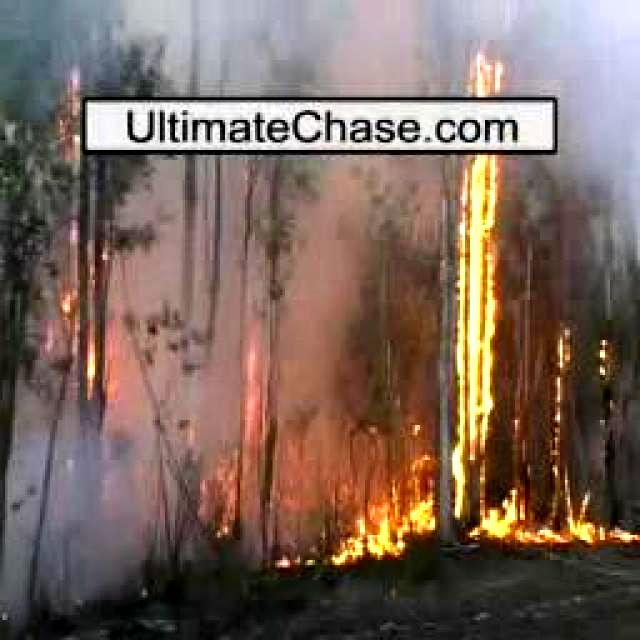fire: (463, 56, 509, 540), (320, 461, 428, 562), (544, 480, 638, 548)
